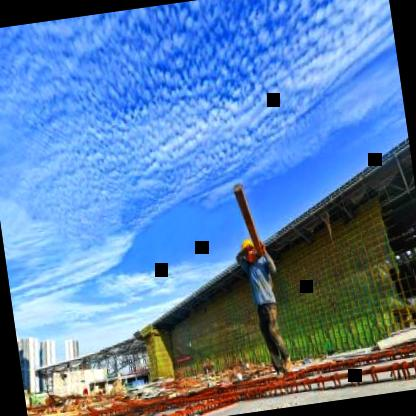helmet: (240, 235, 258, 264)
